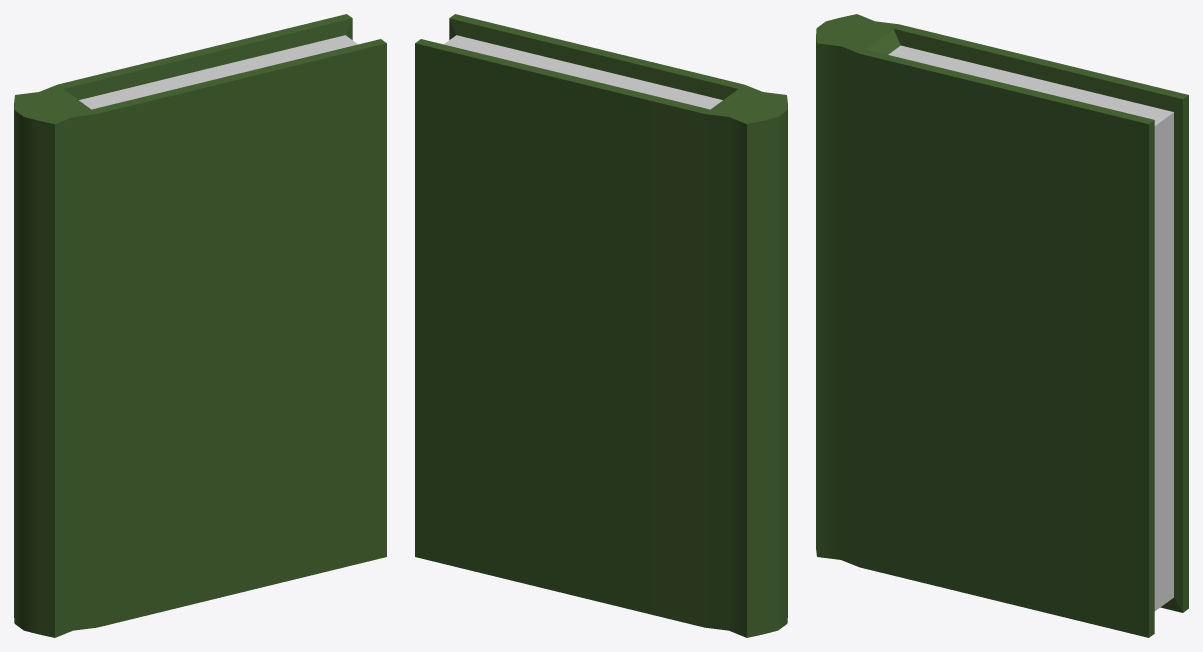
The model's file is book_2.fbx.
3 views of the same model, side by side, from view 1: azimuth 30°, elevation 25°; view 2: azimuth 150°, elevation 25°; view 3: azimuth 330°, elevation 25° (orthographic).
Visible parts, largest first — view 1: pCube1; view 2: pCube1; view 3: pCube1.
Part boxes in pixels (x1=…): pCube1: x1=14, y1=14, x2=386, y2=637; pCube1: x1=415, y1=14, x2=787, y2=637; pCube1: x1=816, y1=14, x2=1188, y2=637.
Bounding box in the file's own units: 11.6 × 16.38 × 2.31.
